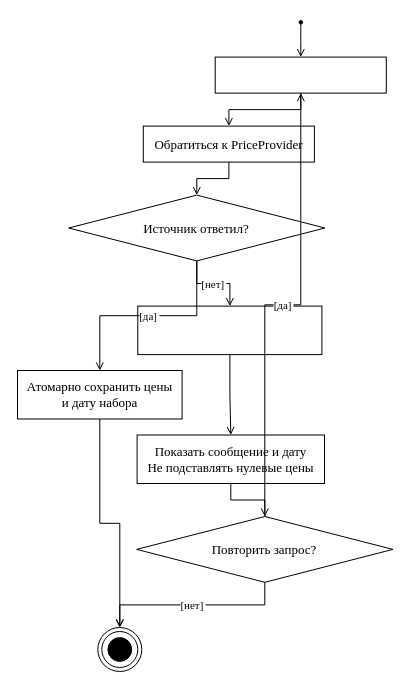
The diagram is 411 pixels wide and 690 high, and some of its shapes have lost their labels. The centre of each missing label's shape, as x and y in pixels:
"Запросить обновление цен" belongs at [300,74].
"Оставить предыдущие цены Ответить 503 с кодом ошибки" belongs at [229,330].
